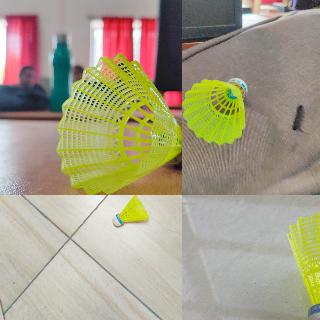shuttlecock: (57, 52, 181, 194), (183, 75, 245, 143), (286, 212, 319, 319), (112, 195, 148, 229)
